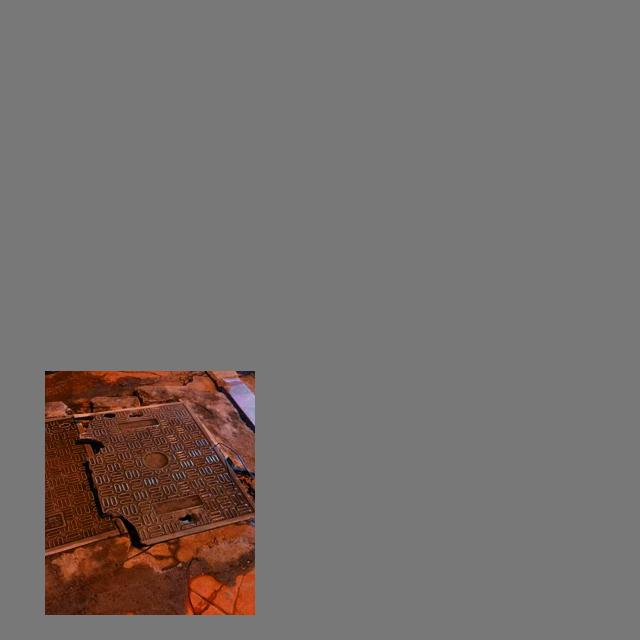broke: (50, 390, 250, 575)
